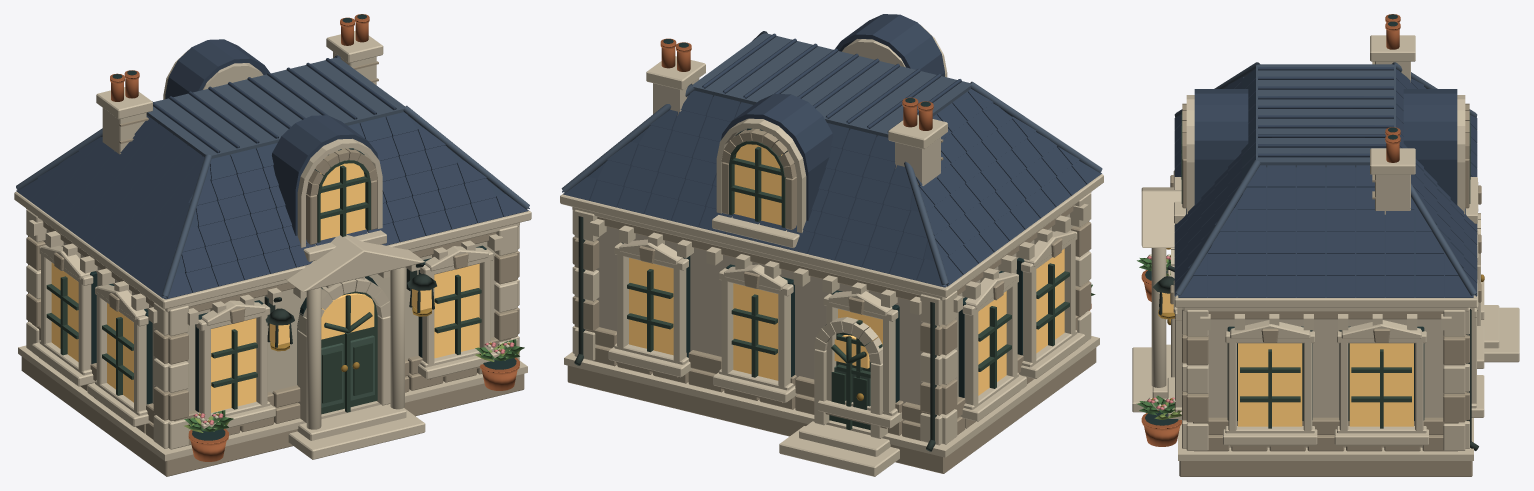
The picture shows the model from 3 angles, left to right: view 1: azimuth 30°, elevation 25°; view 2: azimuth 150°, elevation 25°; view 3: azimuth 270°, elevation 25°; orthographic projection. The views are drawn at different scales.
Parts seen in each view (by area): view 1: classic_hotel_1_geometry; view 2: classic_hotel_1_geometry; view 3: classic_hotel_1_geometry.
Part boxes in pixels (x1,y1,x2,y2): classic_hotel_1_geometry: (14,14,531,476); classic_hotel_1_geometry: (560,14,1103,476); classic_hotel_1_geometry: (1132,14,1519,476).
Bounding box in the file's own units: 0.99 × 0.7712 × 0.8667.
